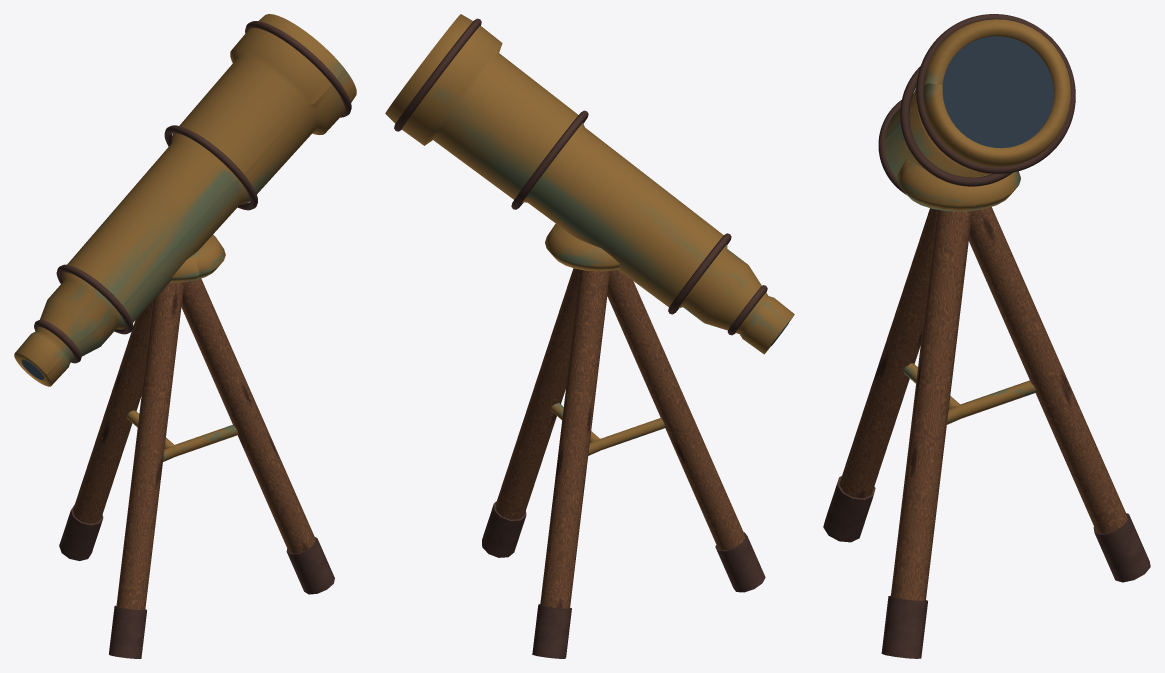
File: telescope.glb
3 views of the same model, side by side, from view 1: azimuth 30°, elevation 25°; view 2: azimuth 150°, elevation 25°; view 3: azimuth 270°, elevation 25° (orthographic). The views are drawn at different scales.
Parts seen in each view (by area): view 1: telescope; view 2: telescope; view 3: telescope.
Part boxes in pixels (x1,y1,x2,y2): telescope: (14, 14, 356, 658); telescope: (385, 14, 794, 658); telescope: (823, 14, 1150, 658).
Bounding box in the file's own units: 0.6293 × 0.9247 × 0.4255.
Materials: 4 (3 with a texture image).
